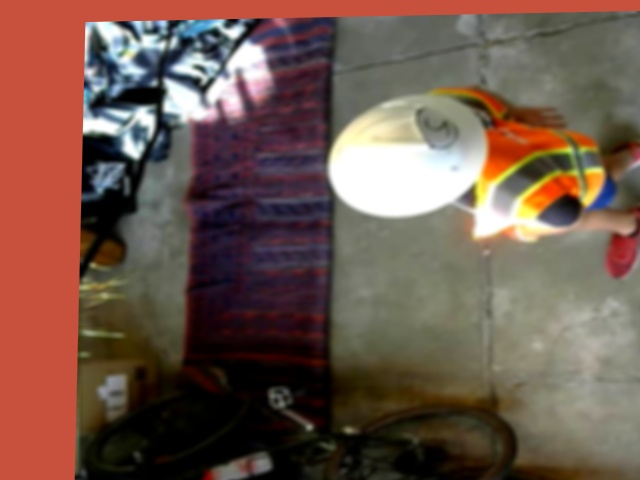two: (414, 106, 456, 150)
